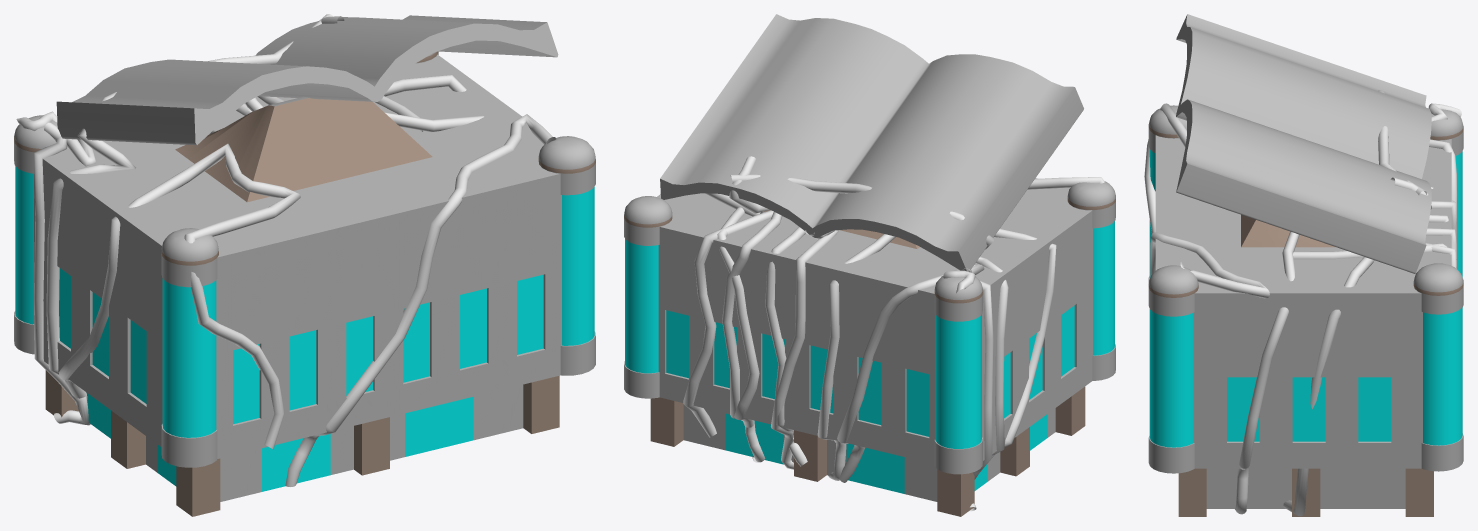
File: librarywithroots.fbx
3 views of the same model, side by side, from view 1: azimuth 30°, elevation 25°; view 2: azimuth 150°, elevation 25°; view 3: azimuth 270°, elevation 25° (orthographic). The views are drawn at different scales.
Parts seen in each view (by area): view 1: library, BezierCurve; view 2: library, BezierCurve; view 3: library, BezierCurve.
Boxes of the visible parts, x1=… form: library: x1=14, y1=15, x2=595, y2=516; BezierCurve: x1=16, y1=14, x2=557, y2=486; library: x1=624, y1=14, x2=1115, y2=516; BezierCurve: x1=683, y1=156, x2=1104, y2=511; library: x1=1148, y1=14, x2=1463, y2=516; BezierCurve: x1=1144, y1=90, x2=1461, y2=516.
Size of the model in its own units: 229 by 217 by 171.
